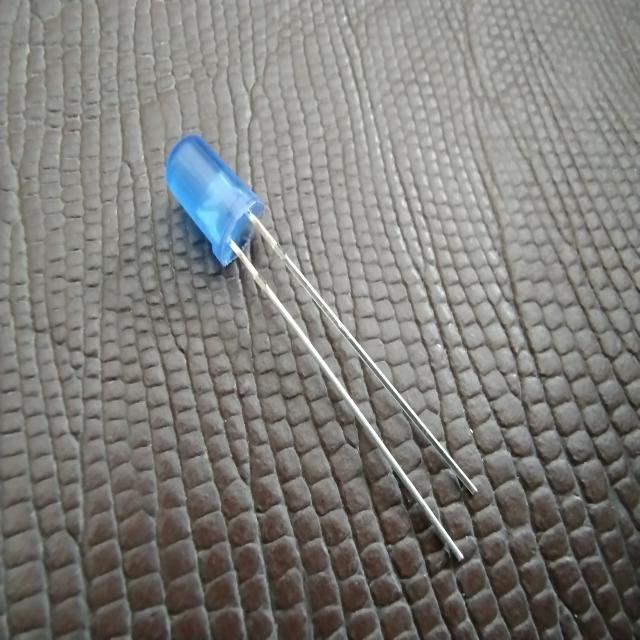blue_led: (163, 132, 264, 268)
